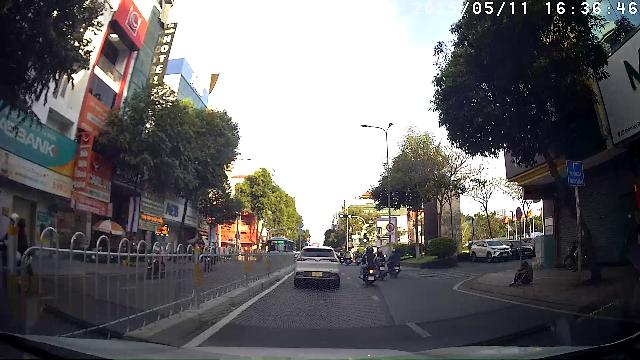124b-cam-oto-quay-dau-xe: (386, 223, 395, 232)
